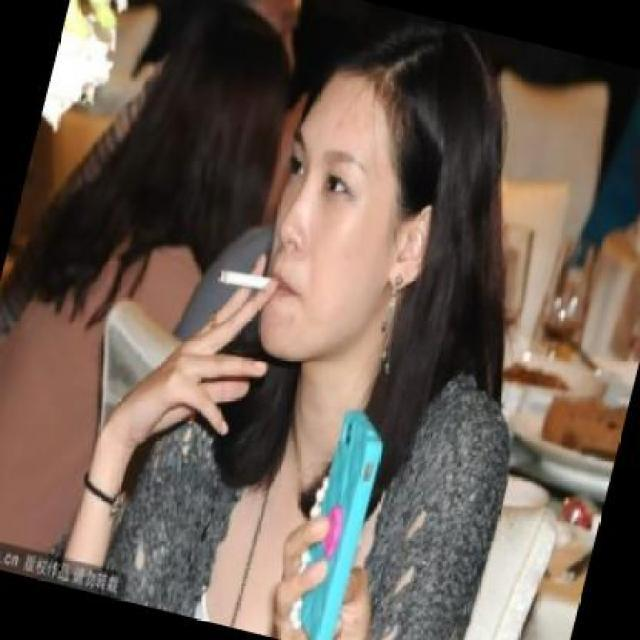cigarette: (212, 262, 280, 304)
